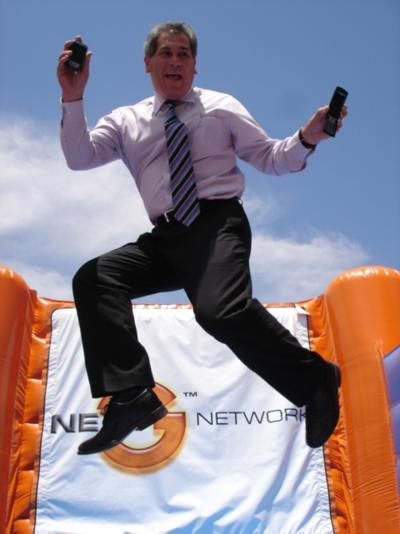person: (58, 18, 348, 457)
